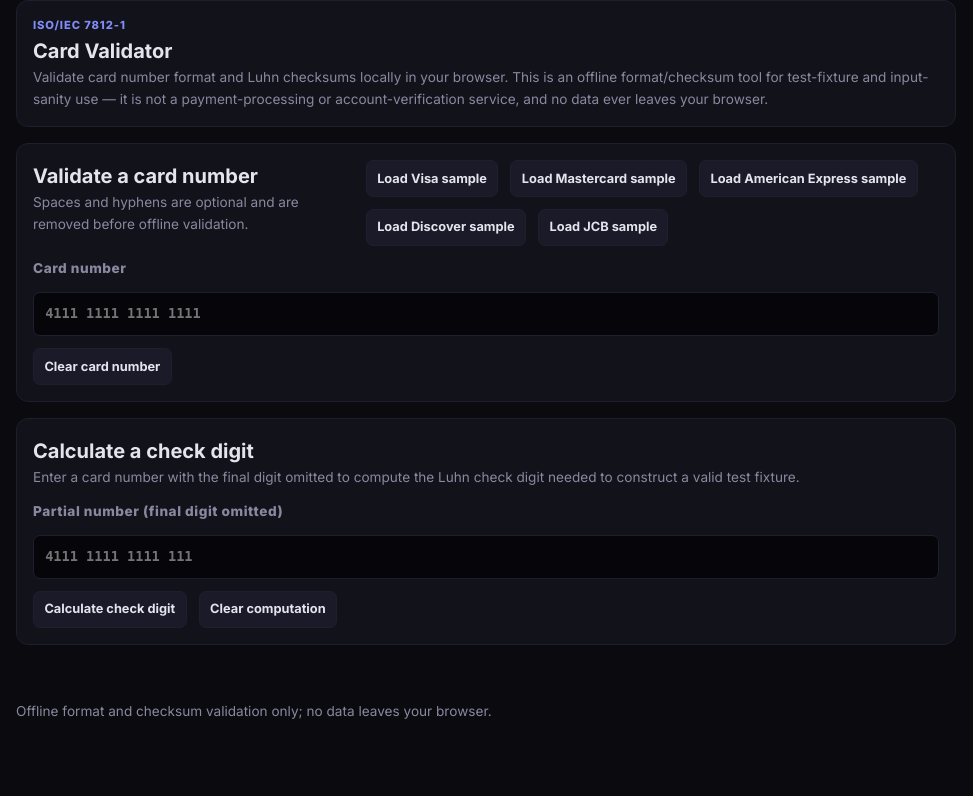
Scenario: CardTool › shows a role alert for a card number under 8 digits
Type "1234567" into the field labelled "Card number" at (486,314), box [33, 292, 939, 336]
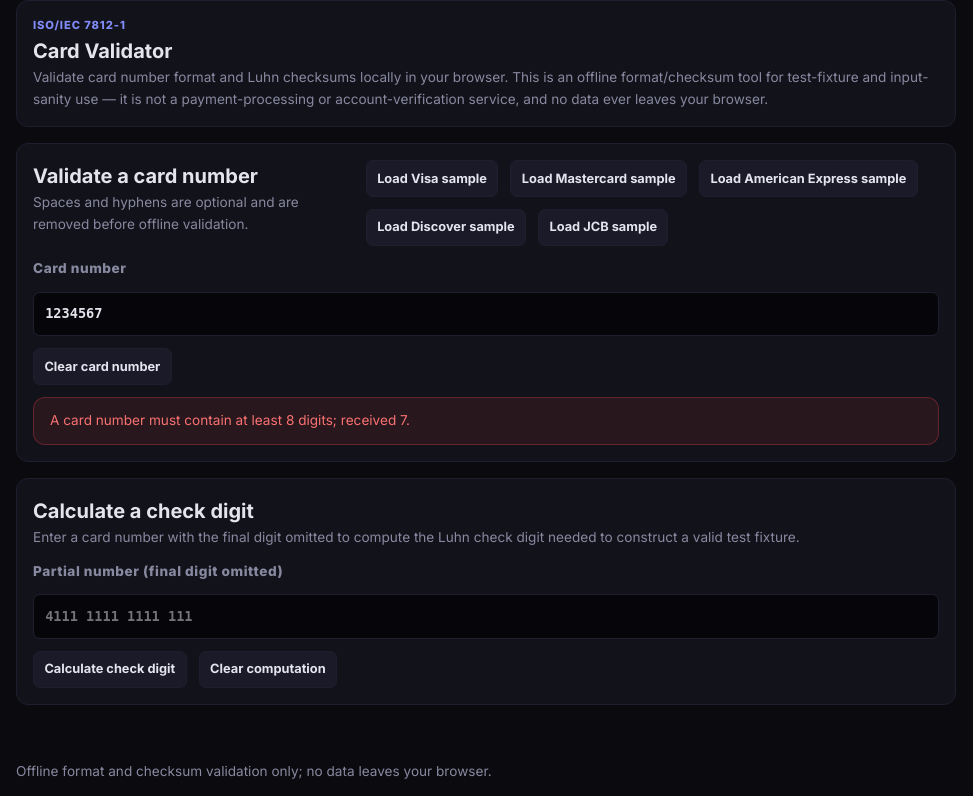
Result: the message "A card number must contain at least 8 digits; received 7." is shown at [33, 397, 939, 445]
